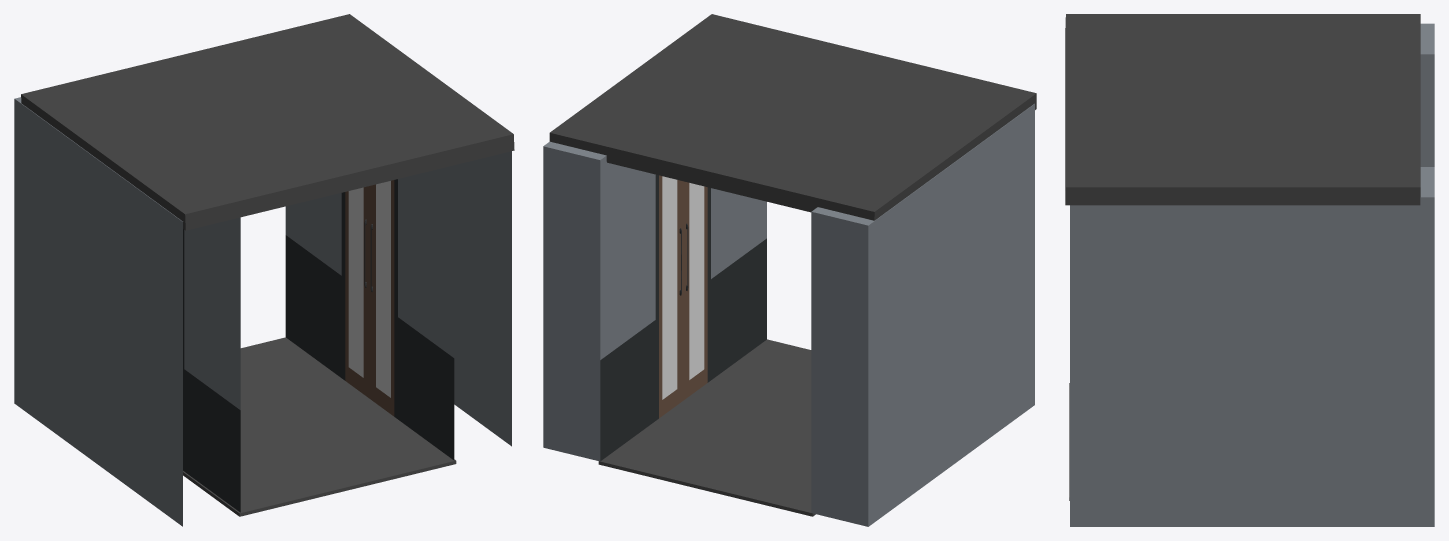
File: ClincaTileTres.fbx
3 views of the same model, side by side, from view 1: azimuth 30°, elevation 25°; view 2: azimuth 150°, elevation 25°; view 3: azimuth 270°, elevation 25° (orthographic). The views are drawn at different scales.
Parts seen in each view (by area): view 1: ClinicaTileTres; view 2: ClinicaTileTres; view 3: ClinicaTileTres.
Boxes of the visible parts, left/top/right/bottom form: ClinicaTileTres: left=14, top=14, right=514, bottom=526; ClinicaTileTres: left=543, top=14, right=1036, bottom=526; ClinicaTileTres: left=1065, top=14, right=1434, bottom=526.
Size of the model in its own units: 1809 by 1666 by 1624.
